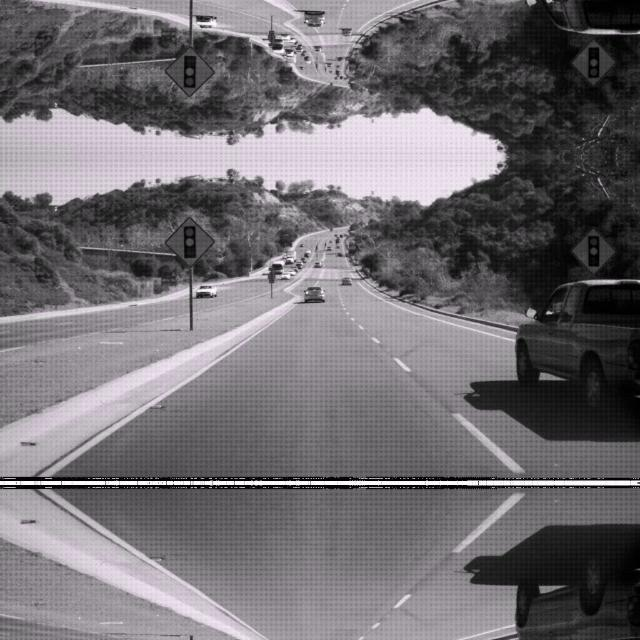signalAhead: (164, 44, 214, 98), (164, 215, 214, 268), (570, 224, 616, 274), (570, 38, 616, 88)
